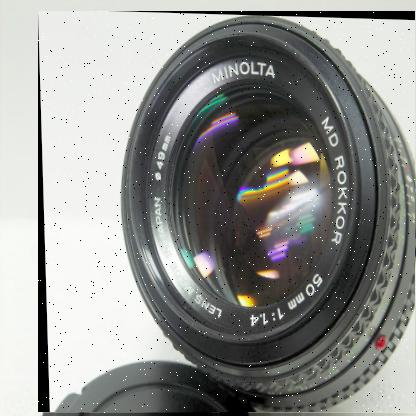Camera: (39, 13, 416, 416)
